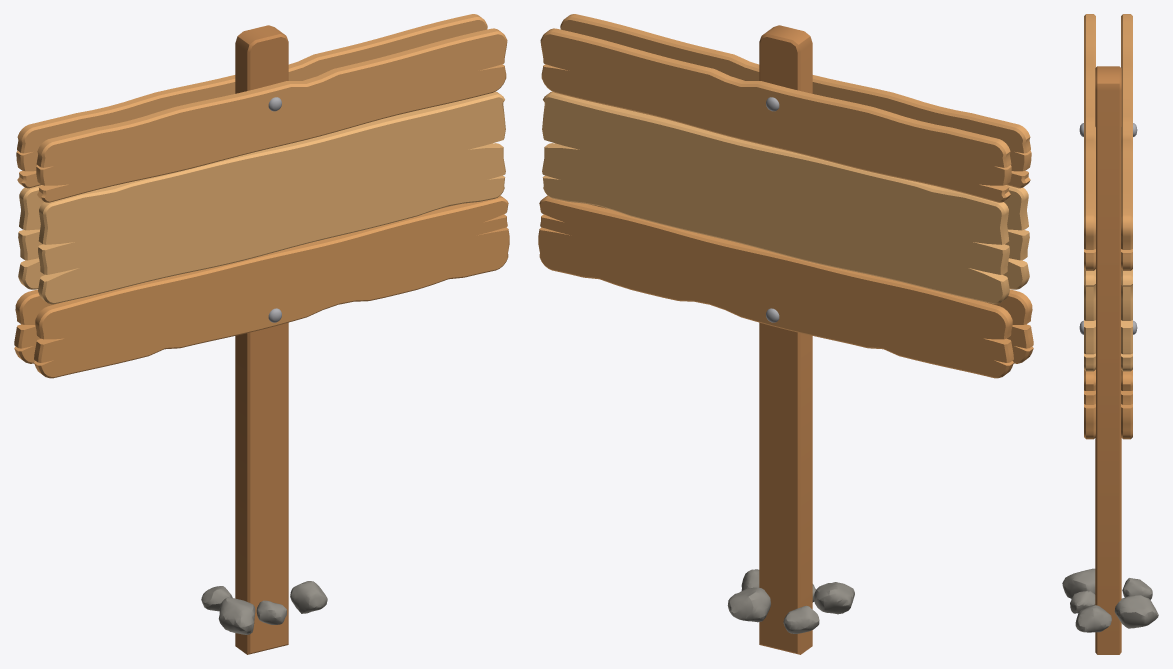
File: signboard.glb
3 renders of one model, left to right at view 1: azimuth 30°, elevation 25°; view 2: azimuth 150°, elevation 25°; view 3: azimuth 270°, elevation 25°, orthographic. The views are drawn at different scales.
Visible parts, largest first — view 1: plankB2, plankC3, plankA1, post0, plankA1_mz, plankB2_mz, plankC3_mz, stone7, stone6; view 2: plankB2_mz, plankC3_mz, plankA1_mz, post0, plankA1, plankB2, plankC3, stone9, stone7, stone10; view 3: post0, plankA1, plankA1_mz, plankB2, plankB2_mz, stone9, plankC3, plankC3_mz, stone6, stone7, stone10, stone8.
Boxes of the visible parts, x1,y1,x2,y2 form: plankB2: [38, 91, 505, 304]; plankC3: [34, 195, 509, 378]; plankA1: [36, 28, 507, 202]; post0: [235, 25, 288, 654]; plankA1_mz: [16, 14, 487, 188]; plankB2_mz: [18, 111, 414, 289]; plankC3_mz: [14, 204, 456, 363]; stone7: [218, 597, 255, 634]; stone6: [290, 581, 327, 613]; plankB2_mz: [542, 91, 1009, 304]; plankC3_mz: [538, 195, 1013, 378]; plankA1_mz: [540, 28, 1011, 202]; post0: [759, 25, 812, 654]; plankA1: [560, 14, 1031, 188]; plankB2: [633, 111, 1029, 289]; plankC3: [591, 204, 1033, 363]; stone9: [727, 587, 770, 622]; stone7: [813, 582, 854, 614]; stone10: [783, 605, 819, 633]; post0: [1095, 66, 1121, 654]; plankA1: [1084, 14, 1095, 270]; plankA1_mz: [1121, 14, 1132, 270]; plankB2: [1084, 269, 1095, 371]; plankB2_mz: [1121, 269, 1132, 371]; stone9: [1114, 595, 1158, 628]; plankC3: [1084, 369, 1095, 439]; plankC3_mz: [1121, 369, 1132, 439]; stone6: [1075, 605, 1111, 632]; stone7: [1062, 568, 1095, 598]; stone10: [1122, 578, 1152, 599]; stone8: [1070, 591, 1095, 613].
Size of the model in its own units: 2.15 by 2.67 by 0.4059.
